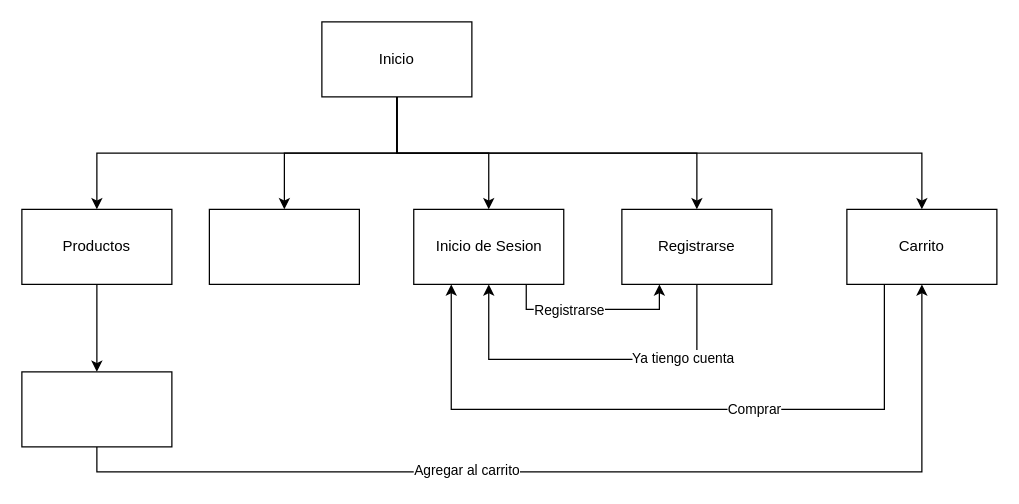
Image size: 1019x504. Some labels were removed from this diagram. Here are the shapes that lost their labels. From the top down, the centre of each, then its label:
At (x=283, y=246): "Contacto".
At (x=96, y=409): "Pagina del producto".
